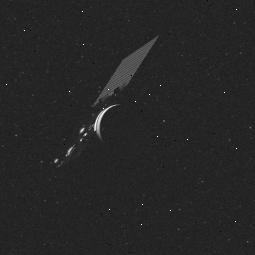proba_3_csc: (50, 38, 168, 166)
